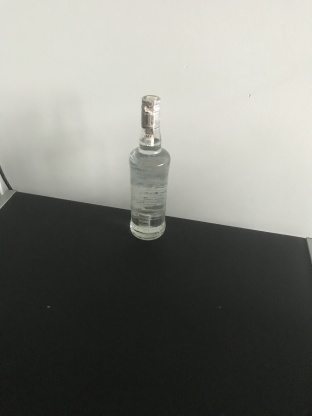nakretka: (139, 92, 162, 129)
